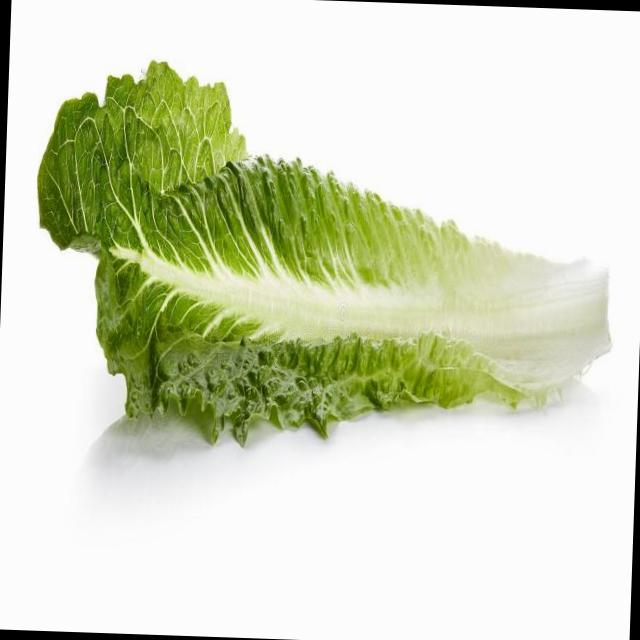Lettuce-Ready-to-Harvest: (39, 63, 607, 443)
